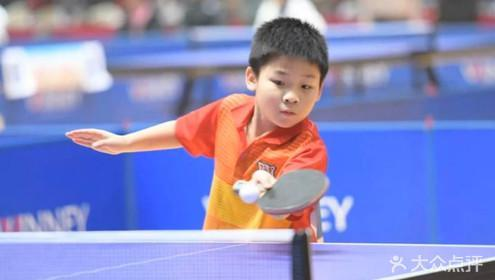ball: (236, 181, 260, 205)
